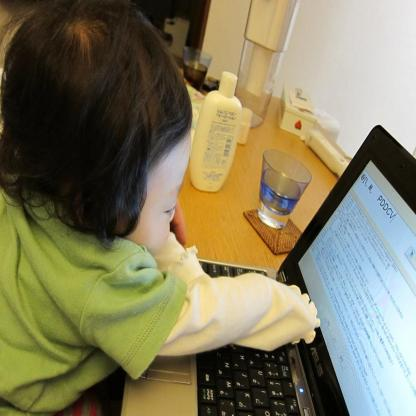board: (124, 123, 416, 416), (190, 73, 240, 195)
